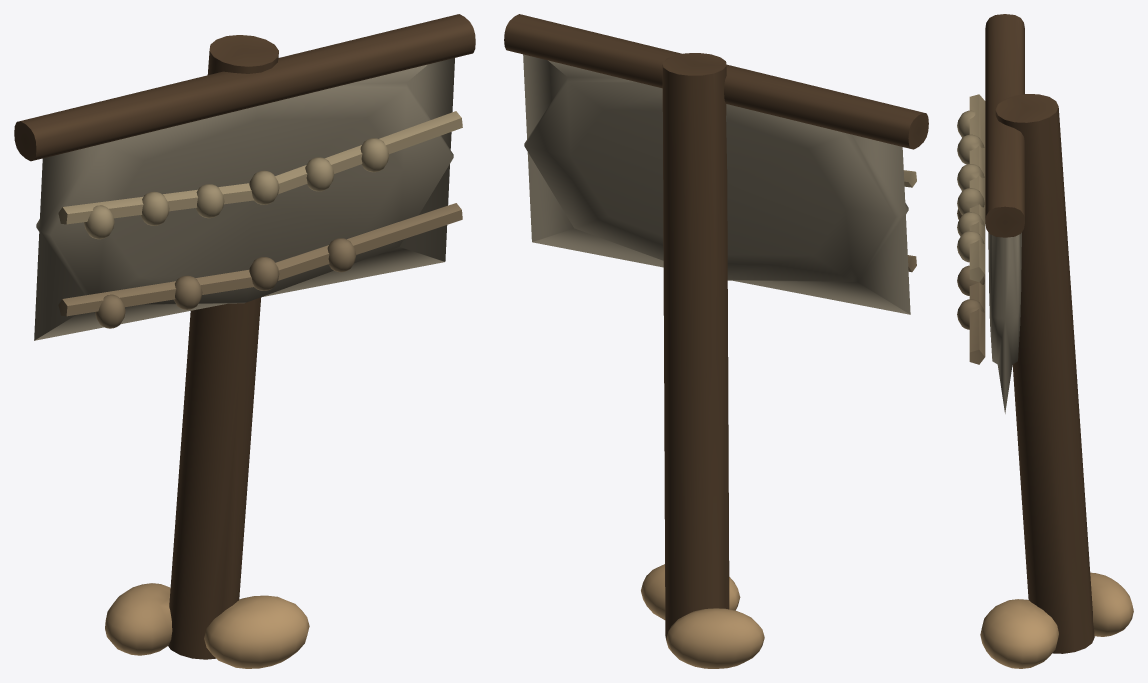
The model's file is knot_board_a.glb.
The picture shows the model from 3 angles, left to right: view 1: azimuth 30°, elevation 25°; view 2: azimuth 150°, elevation 25°; view 3: azimuth 270°, elevation 25°; orthographic projection. The views are drawn at different scales.
Parts seen in each view (by area): view 1: Surface; view 2: Surface; view 3: Surface.
Boxes of the visible parts, x1,y1,x2,y2 form: Surface: (14,14,475,668); Surface: (504,14,928,668); Surface: (957,14,1133,668).
Bounding box in the file's own units: 0.8 × 1.07 × 0.3102.
